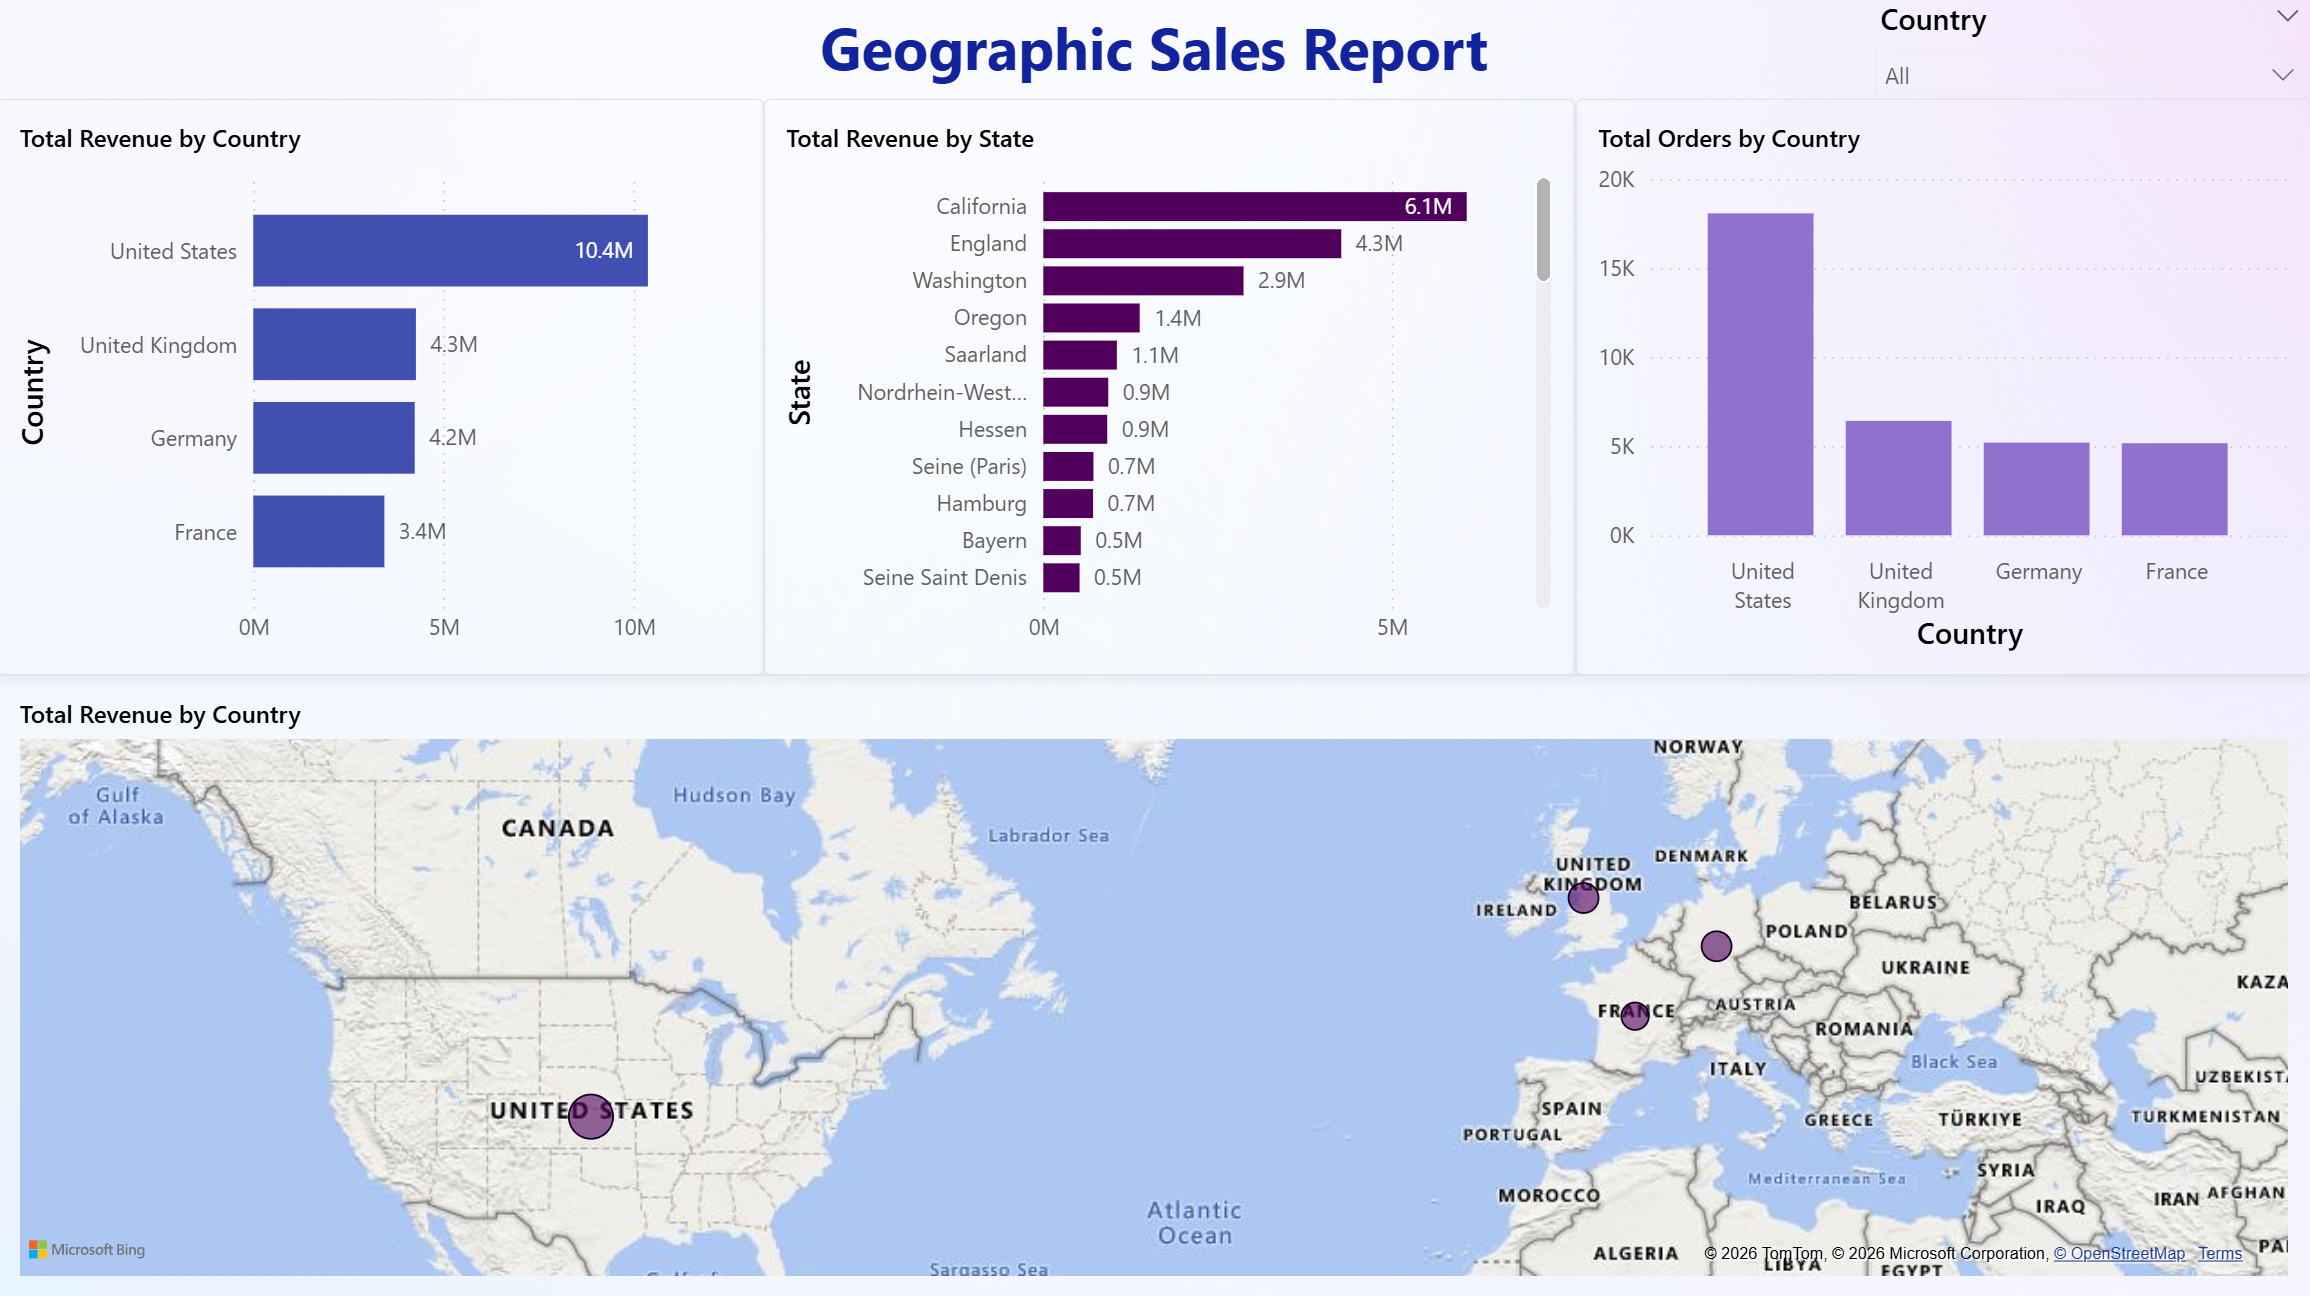

The dashboard page shown, as its layout file describes it:
{"tool":"powerbi","page":{"name":"Geographic Report","canvas":[1280,720],"ordinal":3},"visuals":[{"type":"textbox","box":[434,0,410.7,55.2],"z":0},{"type":"map","fields":{"Category":["salesforcourse-4fe2kehu.Country"],"Size":["salesforcourse-4fe2kehu.Total Revenue"]},"box":[0,373.6,1280,345.9],"z":1},{"type":"clusteredBarChart","fields":{"Category":["salesforcourse-4fe2kehu.Country"],"Y":["salesforcourse-4fe2kehu.Total Revenue"]},"box":[0,55.2,424.2,318.8],"z":2},{"type":"clusteredBarChart","fields":{"Category":["salesforcourse-4fe2kehu.State"],"Y":["salesforcourse-4fe2kehu.Total Revenue"]},"box":[424.2,55.2,448.7,318.8],"z":3},{"type":"clusteredColumnChart","fields":{"Category":["salesforcourse-4fe2kehu.Country"],"Y":["salesforcourse-4fe2kehu.Total Orders"]},"box":[873,55.2,407,318.8],"z":4},{"type":"slicer","fields":{"Values":["salesforcourse-4fe2kehu.Country"]},"box":[1032.9,0,247.1,55.4],"z":5}]}

Visuals, with their boxes in screenshot pixels (x1, y1, x2, y2), scaled from the page's 1280x720 canvas onto the 2310x1296 screenshot:
textbox: detection(783, 0, 1524, 99)
map - salesforcourse-4fe2kehu.Country x salesforcourse-4fe2kehu.Total Revenue: detection(0, 672, 2309, 1295)
clusteredBarChart - salesforcourse-4fe2kehu.Country x salesforcourse-4fe2kehu.Total Revenue: detection(0, 99, 766, 673)
clusteredBarChart - salesforcourse-4fe2kehu.State x salesforcourse-4fe2kehu.Total Revenue: detection(766, 99, 1575, 673)
clusteredColumnChart - salesforcourse-4fe2kehu.Country x salesforcourse-4fe2kehu.Total Orders: detection(1575, 99, 2309, 673)
slicer - salesforcourse-4fe2kehu.Country: detection(1864, 0, 2309, 100)
